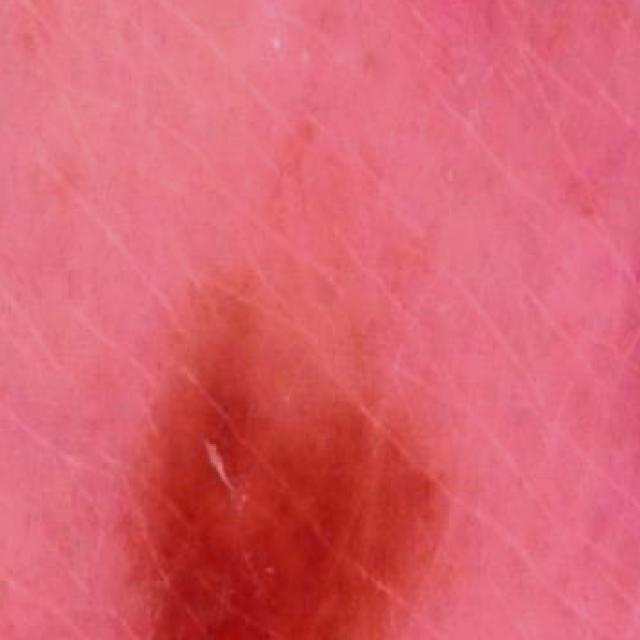NV: (113, 270, 449, 640)
